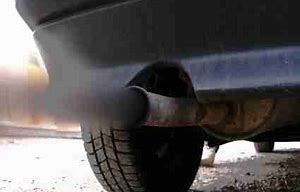smoke: (1, 74, 144, 138)
